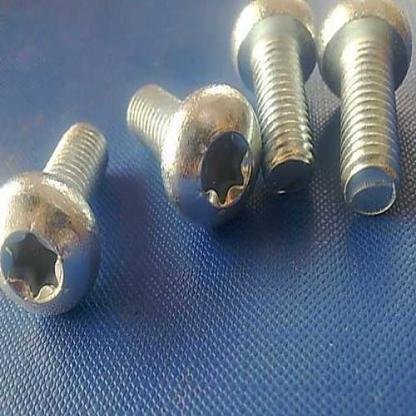FOD: (0, 122, 110, 318), (126, 80, 264, 236), (318, 0, 414, 218), (230, 0, 317, 204)
